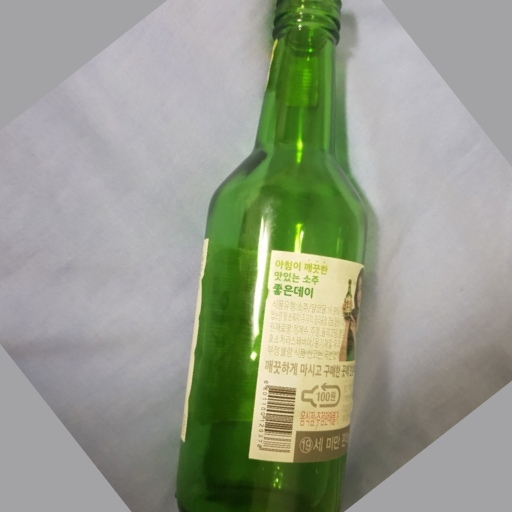Glass_0: (167, 1, 368, 512)
